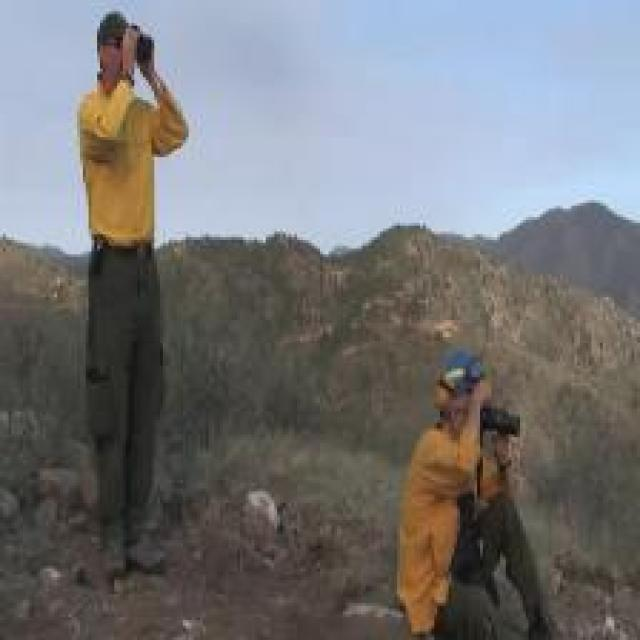other: (61, 50, 185, 245), (383, 380, 481, 603)
